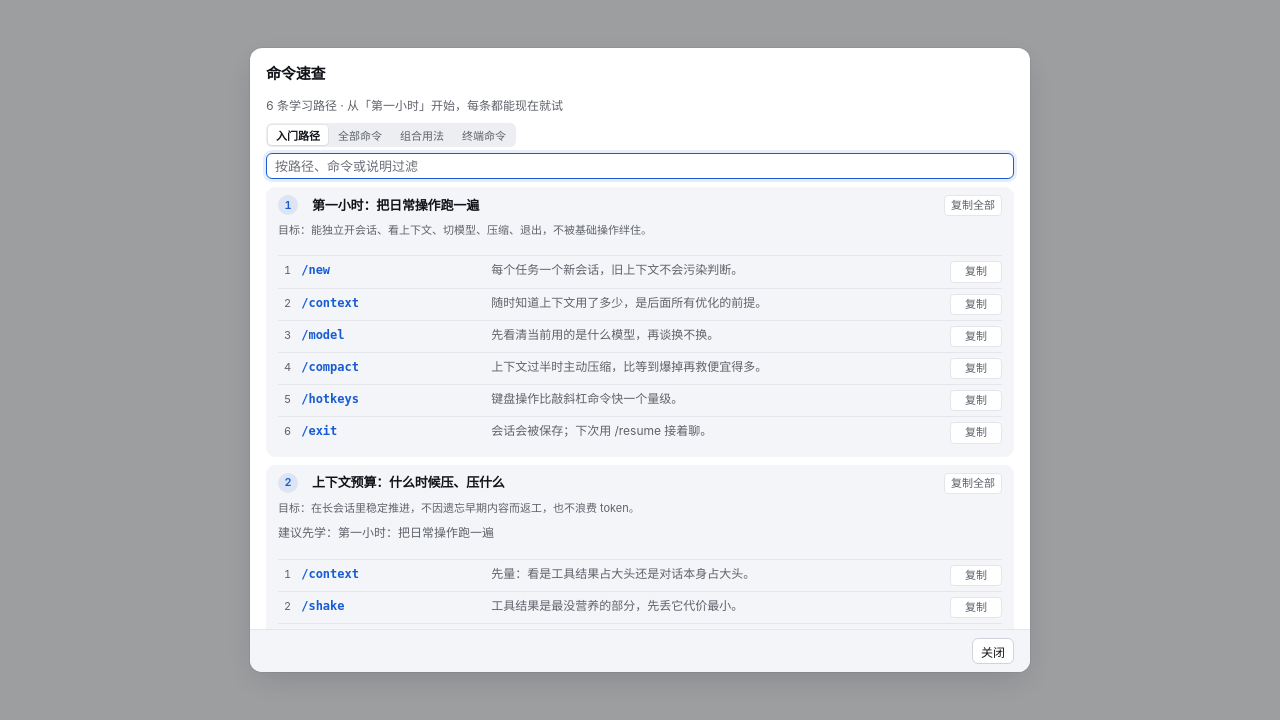
复制 › 复制失败显示可见提示而不是已复制
The image size is (1280, 720).
Click the tab "全部命令". click: (360, 135)
box: [330,125,390,145]
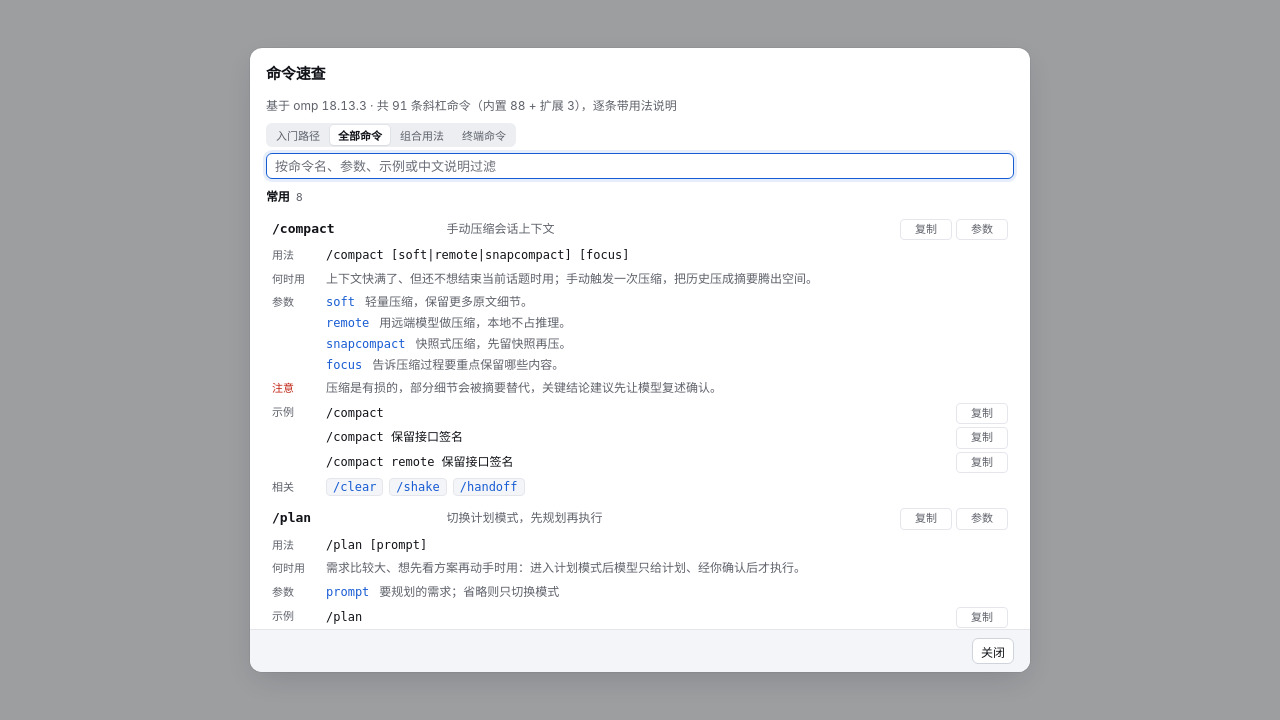
Type "delete" into the search field named "过滤命令". click: (640, 166)
box: [266,153,1014,179]
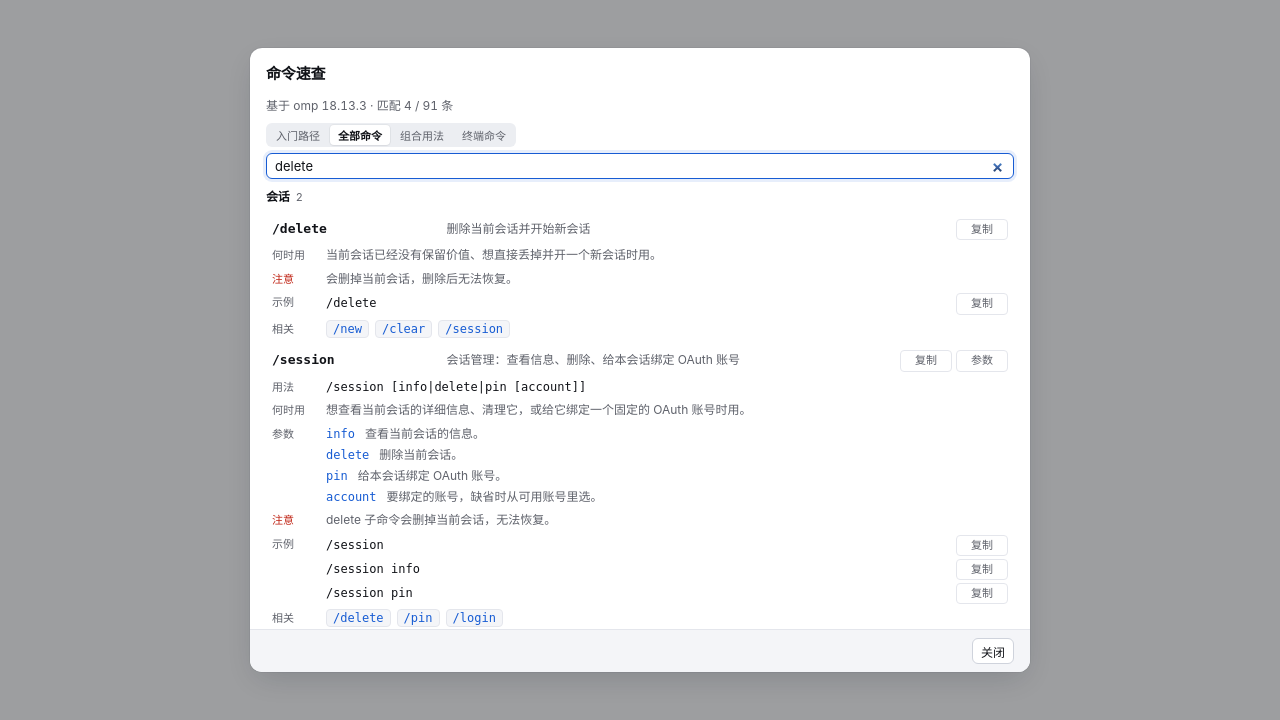
Click the button with aria-label "复制 /delete". click: (982, 230)
box: [956,219,1008,240]
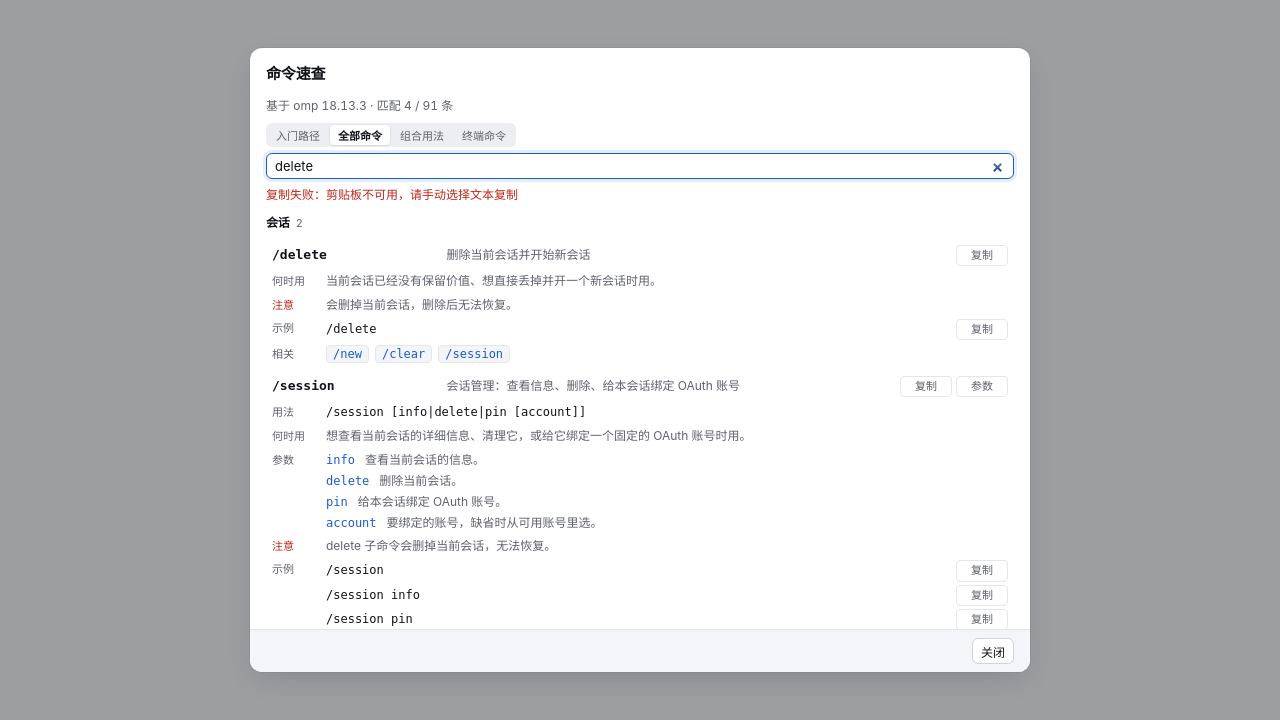
Check: the button with aria-label "复制 /delete" reads "复制", box [956,245,1008,266]
Check: the message shows "复制失败", box [266,187,518,202]
